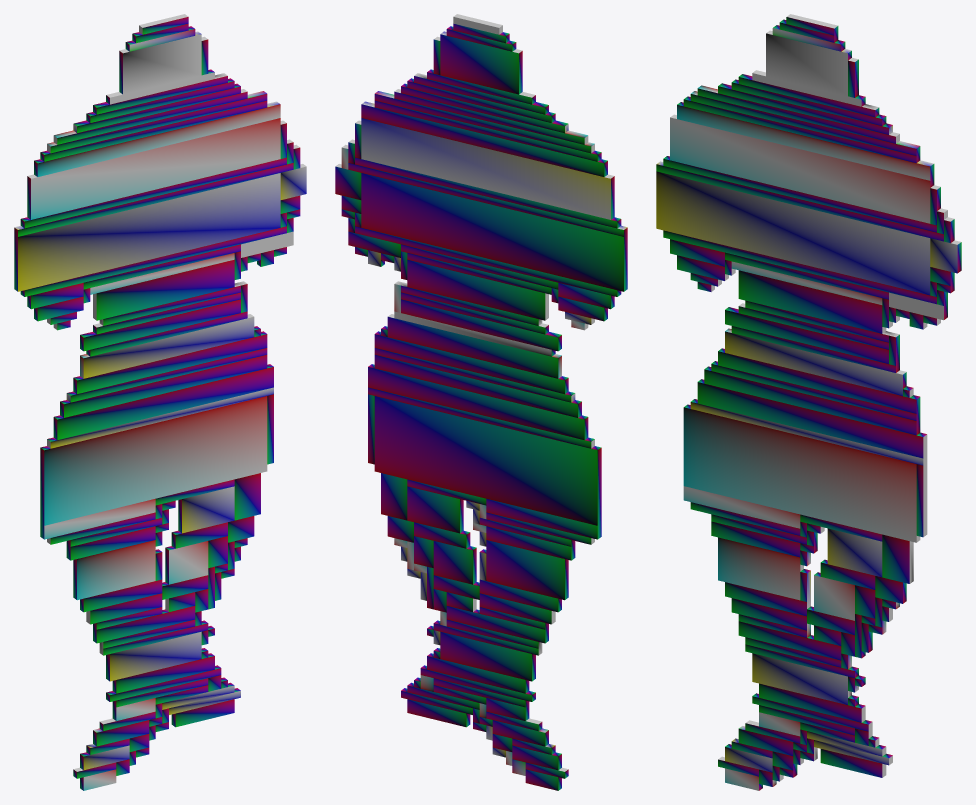
3 views of the same model, side by side, from view 1: azimuth 30°, elevation 25°; view 2: azimuth 150°, elevation 25°; view 3: azimuth 330°, elevation 25° (orthographic). The views are drawn at different scales.
Size of the model in its own units: 44 by 109 by 1.
